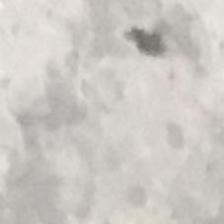Non_Crack: (26, 66, 202, 193)
